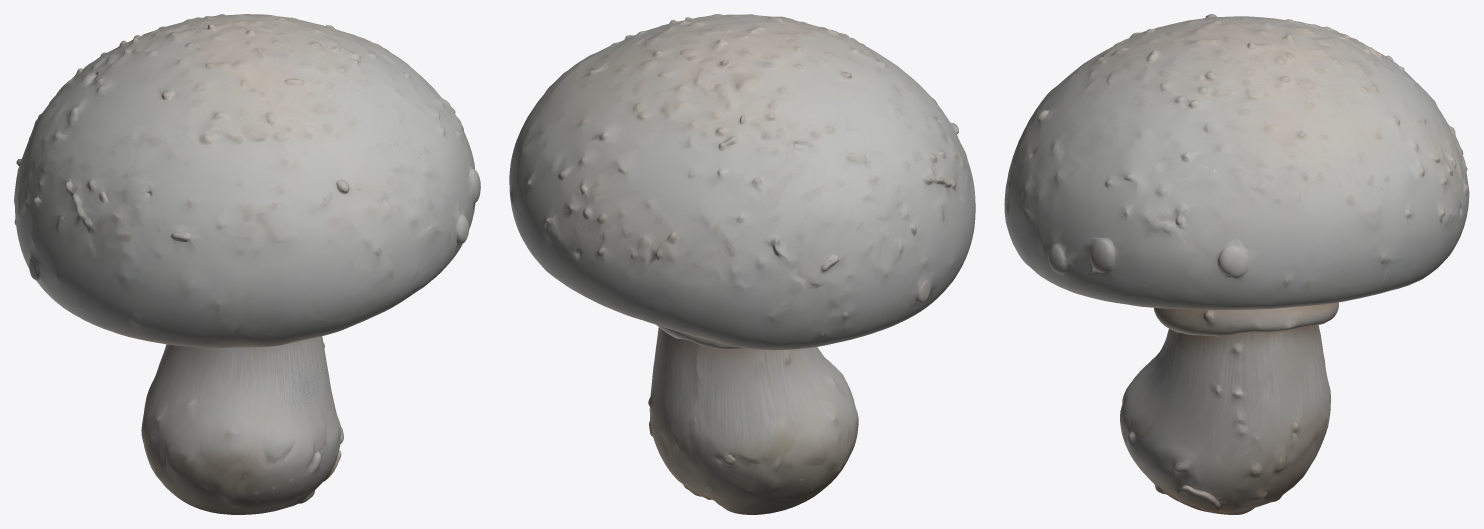
File: nature-mushroom-white.glb
3 views of the same model, side by side, from view 1: azimuth 30°, elevation 25°; view 2: azimuth 150°, elevation 25°; view 3: azimuth 270°, elevation 25° (orthographic).
Visible parts, largest first — view 1: tripo_node_75ecc695-3b87-4c41-a2af-29348d571234; view 2: tripo_node_75ecc695-3b87-4c41-a2af-29348d571234; view 3: tripo_node_75ecc695-3b87-4c41-a2af-29348d571234.
Part boxes in pixels (left/top/right/bottom): tripo_node_75ecc695-3b87-4c41-a2af-29348d571234: left=14, top=14, right=480, bottom=514; tripo_node_75ecc695-3b87-4c41-a2af-29348d571234: left=509, top=14, right=975, bottom=514; tripo_node_75ecc695-3b87-4c41-a2af-29348d571234: left=1004, top=14, right=1469, bottom=514.
Bounding box in the file's own units: 0.1381 × 0.15 × 0.1364.
1 material, 1 textured.
